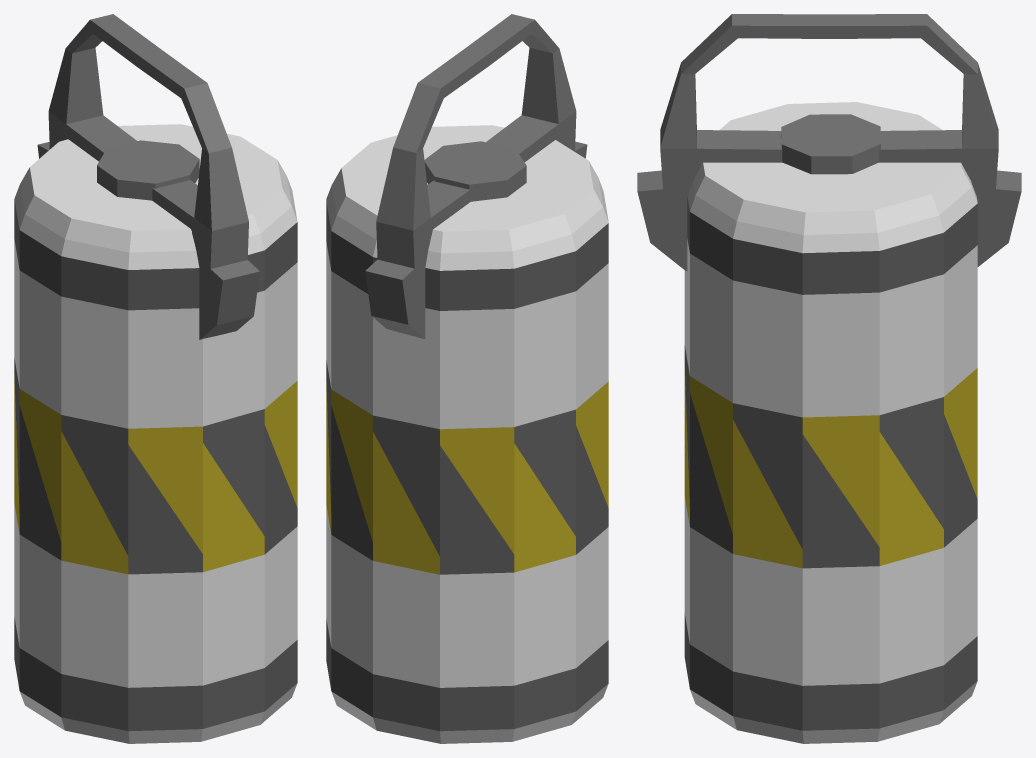
Rendered from Battery.fbx.
The picture shows the model from 3 angles, left to right: view 1: azimuth 30°, elevation 25°; view 2: azimuth 150°, elevation 25°; view 3: azimuth 270°, elevation 25°; orthographic projection. The views are drawn at different scales.
Parts seen in each view (by area): view 1: Cube.001; view 2: Cube.001; view 3: Cube.001.
Boxes of the visible parts, x1=… form: Cube.001: x1=14, y1=14, x2=297, y2=743; Cube.001: x1=326, y1=14, x2=608, y2=743; Cube.001: x1=637, y1=14, x2=1021, y2=743.
Size of the model in its own units: 196 by 488 by 257.
